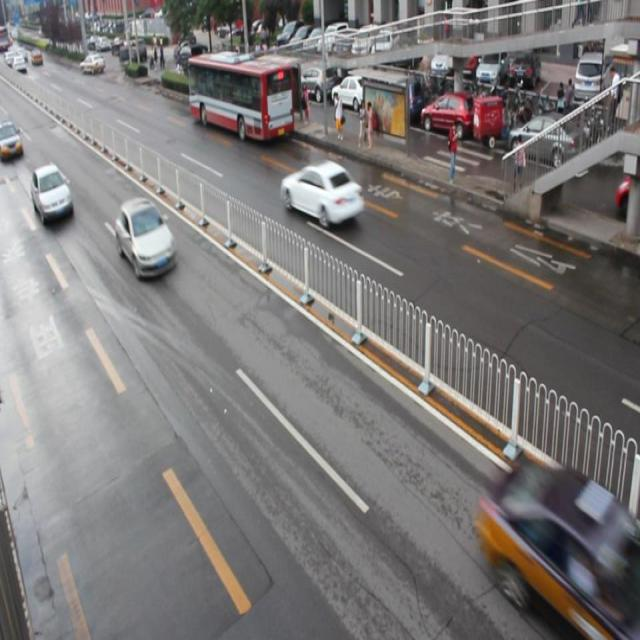car: (478, 460, 640, 640), (280, 158, 362, 227), (116, 197, 178, 278), (31, 164, 74, 222)
van: (188, 54, 292, 140)
